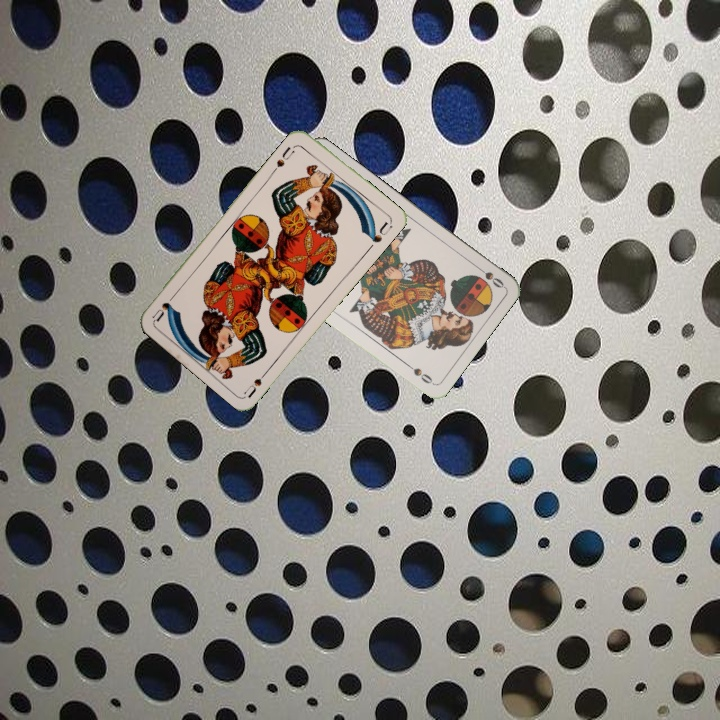SO: (471, 261, 507, 291)
SU: (241, 364, 273, 399), (269, 142, 297, 174)
